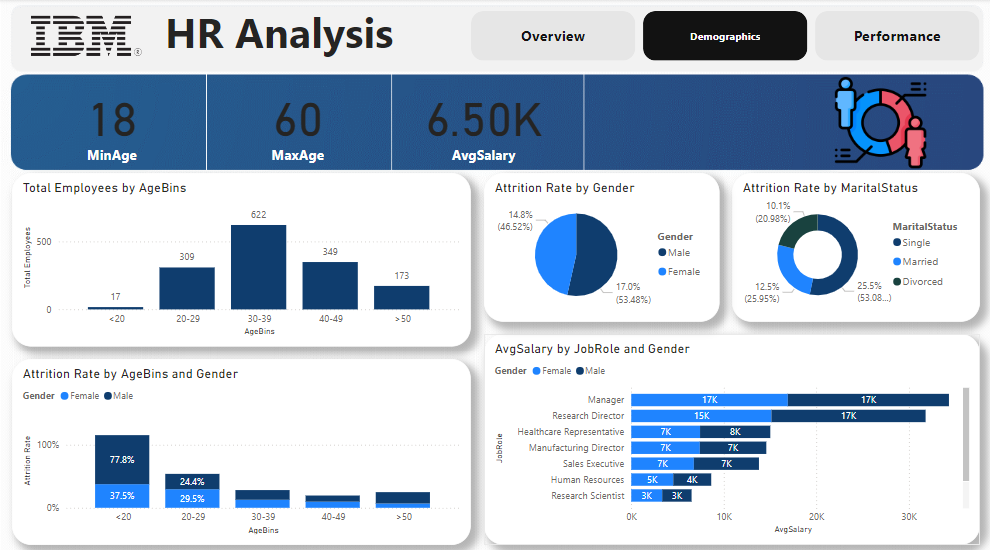

What the dashboard file says about the page in this screenshot:
{"tool":"powerbi","page":{"name":"Demographics","canvas":[1280,720],"ordinal":1},"visuals":[{"type":"card","fields":{"Values":["Measurments.MinAge"]},"box":[32,96,224,128],"z":0},{"type":"card","fields":{"Values":["Measurments.MaxAge"]},"box":[272,96,224,128],"z":1},{"type":"clusteredColumnChart","fields":{"Y":["Measurments.Total Employees"],"Category":["WA_Fn-UseC_-HR-Employee-Attrition.AgeBins"]},"box":[16,224,592,224],"z":2},{"type":"columnChart","fields":{"Category":["WA_Fn-UseC_-HR-Employee-Attrition.AgeBins"],"Y":["Measurments.Attrition Rate"],"Series":["WA_Fn-UseC_-HR-Employee-Attrition.Gender"]},"box":[16,464,592,240],"z":3},{"type":"donutChart","fields":{"Y":["Measurments.Attrition Rate"],"Category":["WA_Fn-UseC_-HR-Employee-Attrition.MaritalStatus"]},"box":[944,224,320,192],"z":4},{"type":"barChart","fields":{"Category":["WA_Fn-UseC_-HR-Employee-Attrition.JobRole"],"Y":["Measurments.AvgSalary"],"Series":["WA_Fn-UseC_-HR-Employee-Attrition.Gender"]},"box":[624,432,640,272],"z":5},{"type":"card","fields":{"Values":["Measurments.AvgSalary"]},"box":[512,96,224,128],"z":6},{"type":"pieChart","fields":{"Category":["WA_Fn-UseC_-HR-Employee-Attrition.Gender"],"Y":["Measurments.Attrition Rate"]},"box":[624,224,304,192],"z":7},{"type":"pageNavigator","box":[608,16,656,64],"z":8},{"type":"textbox","box":[208,0,320,96],"z":9},{"type":"image","box":[16,16,192,64],"z":10},{"type":"image","box":[992,96,288,128],"z":11}]}

Visuals, with their boxes in screenshot pixels (x1, y1, x2, y2), scaled from the page's 1280x720 canvas onto the 990x550 screenshot:
card - Measurments.MinAge: [25, 73, 198, 171]
card - Measurments.MaxAge: [210, 73, 384, 171]
clusteredColumnChart - Measurments.Total Employees x WA_Fn-UseC_-HR-Employee-Attrition.AgeBins: [12, 171, 470, 342]
columnChart - WA_Fn-UseC_-HR-Employee-Attrition.AgeBins x Measurments.Attrition Rate: [12, 354, 470, 538]
donutChart - Measurments.Attrition Rate x WA_Fn-UseC_-HR-Employee-Attrition.MaritalStatus: [730, 171, 978, 318]
barChart - WA_Fn-UseC_-HR-Employee-Attrition.JobRole x Measurments.AvgSalary: [483, 330, 978, 538]
card - Measurments.AvgSalary: [396, 73, 569, 171]
pieChart - WA_Fn-UseC_-HR-Employee-Attrition.Gender x Measurments.Attrition Rate: [483, 171, 718, 318]
pageNavigator: [470, 12, 978, 61]
textbox: [161, 0, 408, 73]
image: [12, 12, 161, 61]
image: [767, 73, 989, 171]
